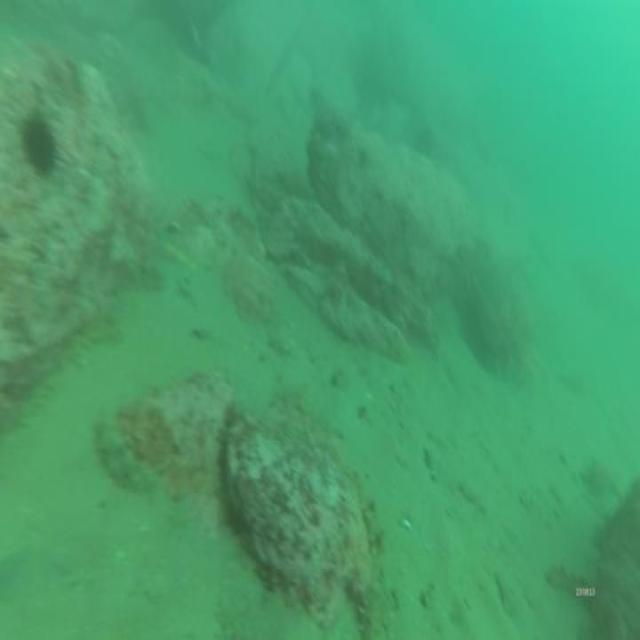echinus: (19, 109, 57, 185)
holothurian: (361, 493, 386, 640)
